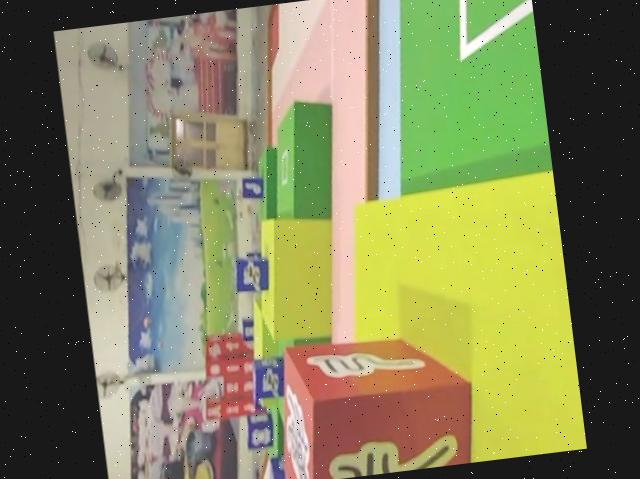R2 Fake: (269, 320, 484, 479)
